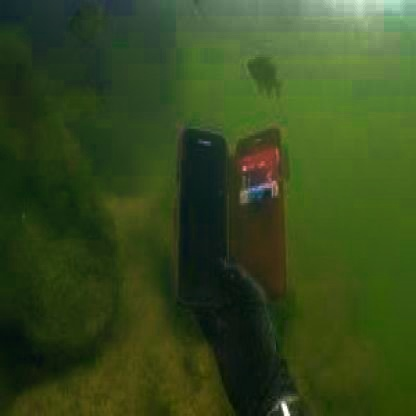cellphone: (173, 131, 229, 312)
